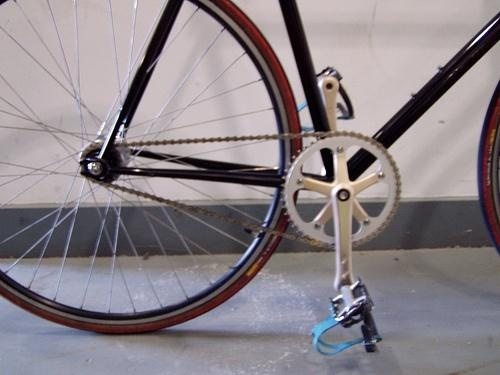bicycle: (2, 1, 500, 357)
